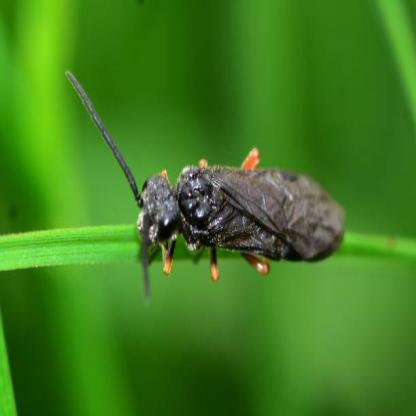sawfly: (61, 64, 352, 277)
